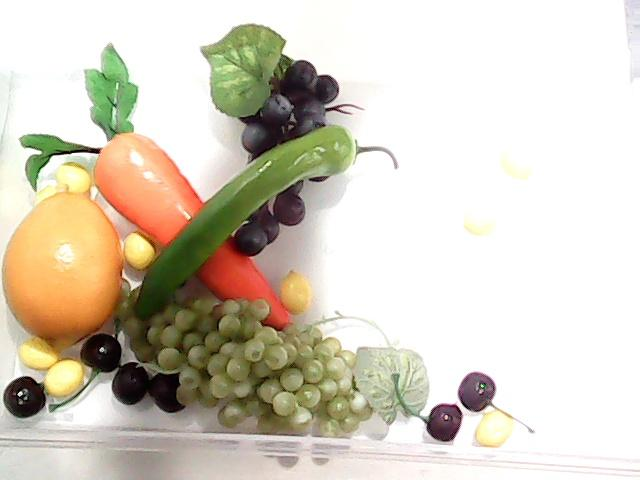carrot: (17, 41, 293, 331)
grape: (118, 290, 430, 450), (200, 25, 338, 255)
lemon: (0, 186, 128, 348)
pepper: (133, 123, 371, 329)
